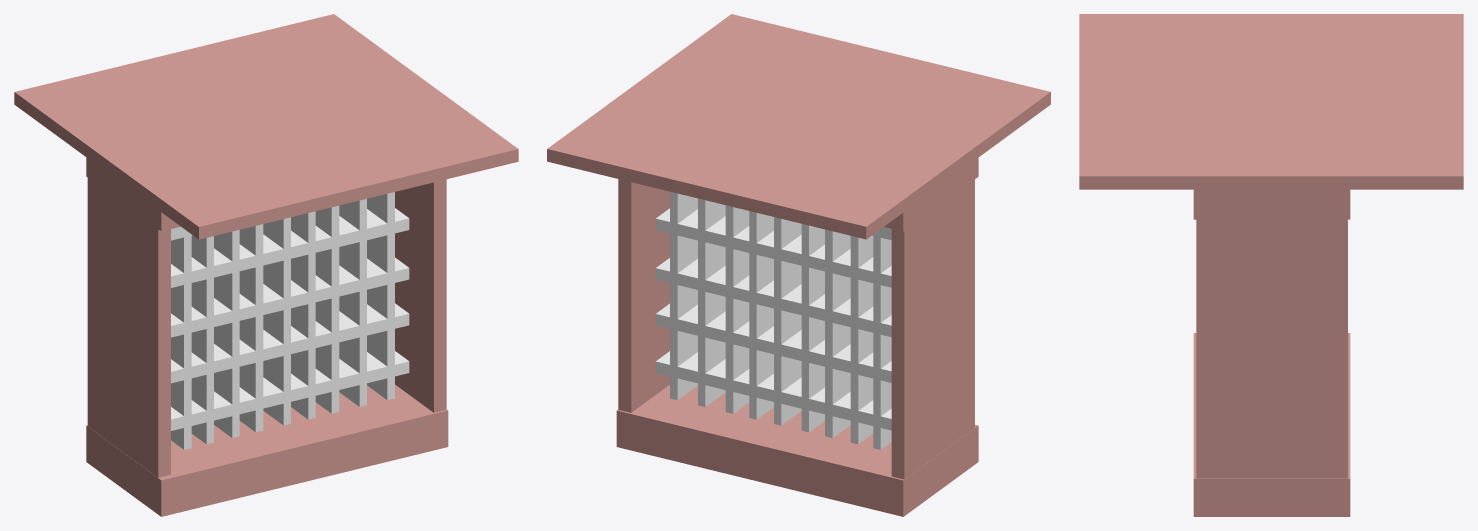
File: sh-contrib-borderfence-main.glb
3 views of the same model, side by side, from view 1: azimuth 30°, elevation 25°; view 2: azimuth 150°, elevation 25°; view 3: azimuth 270°, elevation 25° (orthographic). The views are drawn at different scales.
Parts seen in each view (by area): view 1: top, Cube_1; view 2: top, Cube_1; view 3: top.
Boxes of the visible parts, <box> form: top: <box>14,14,518,516</box>; Cube_1: <box>171,192,409,449</box>; top: <box>547,14,1050,516</box>; Cube_1: <box>655,191,891,449</box>; top: <box>1079,14,1463,516</box>.
Bounding box in the file's own units: 1 × 1 × 1.
